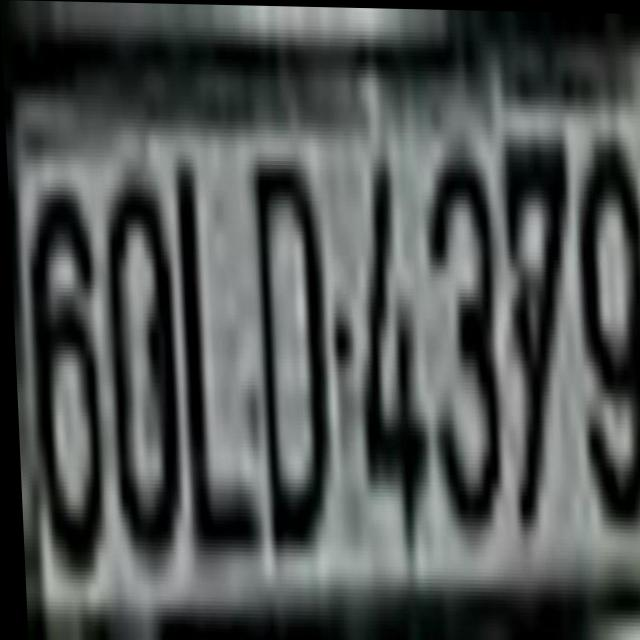0: (99, 160, 181, 569)
3: (420, 143, 501, 548)
4: (349, 165, 433, 562)
6: (22, 178, 106, 587)
7: (498, 117, 578, 537)
9: (568, 118, 640, 524)
D: (249, 148, 326, 549)
L: (171, 146, 260, 559)
